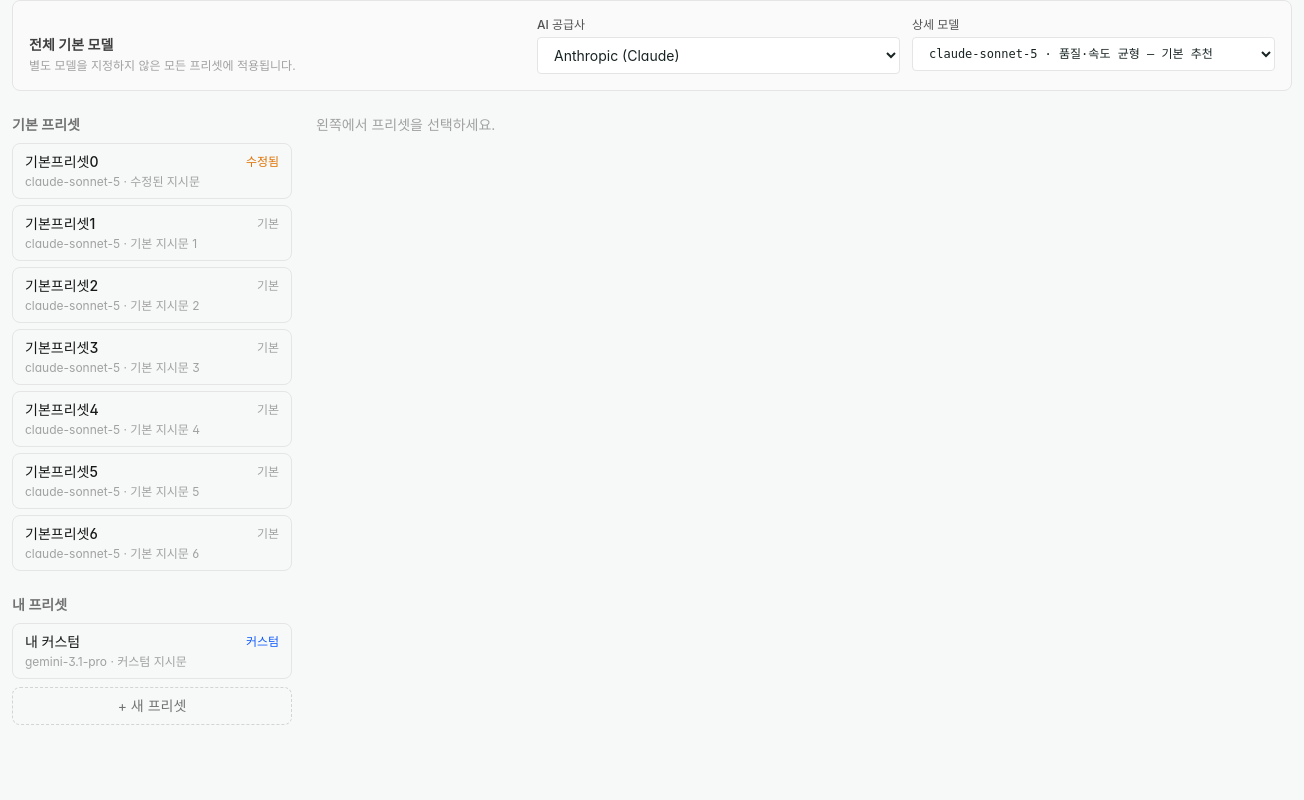
Test: PresetSettings › 항목 클릭 시 편집기에 해당 instruction이 표시된다
Click the button "내 커스텀 커스텀 gemini-3.1-pro · 커스텀 지시문" at (152, 651), box [12,623,292,679]
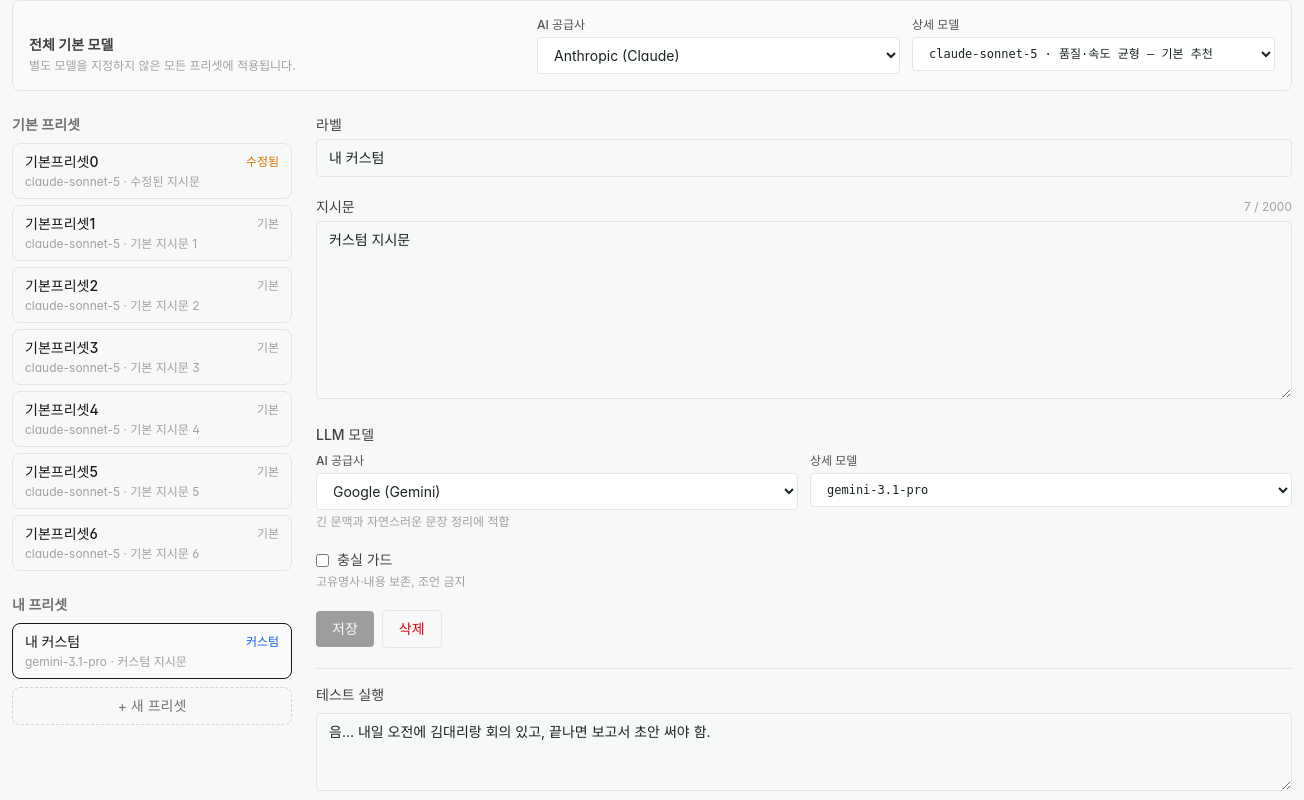
expect the text box showing "커스텀 지시문" is shown: met, box [316,221,1292,399]
